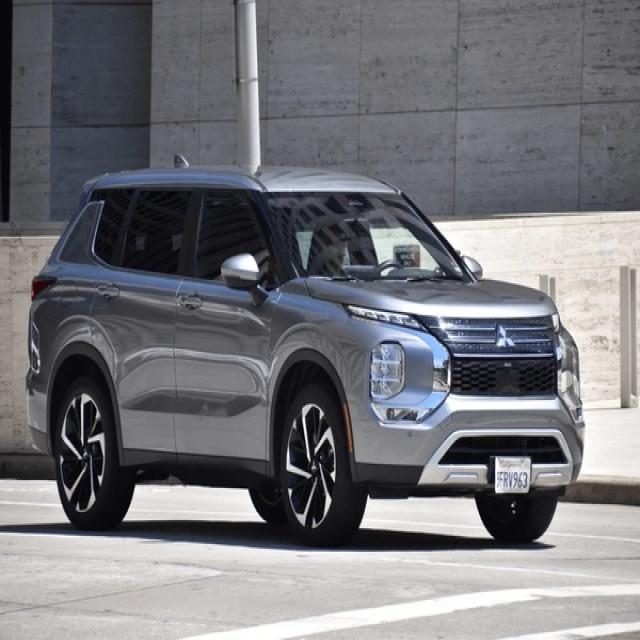mitsubishi: (488, 320, 520, 354)
